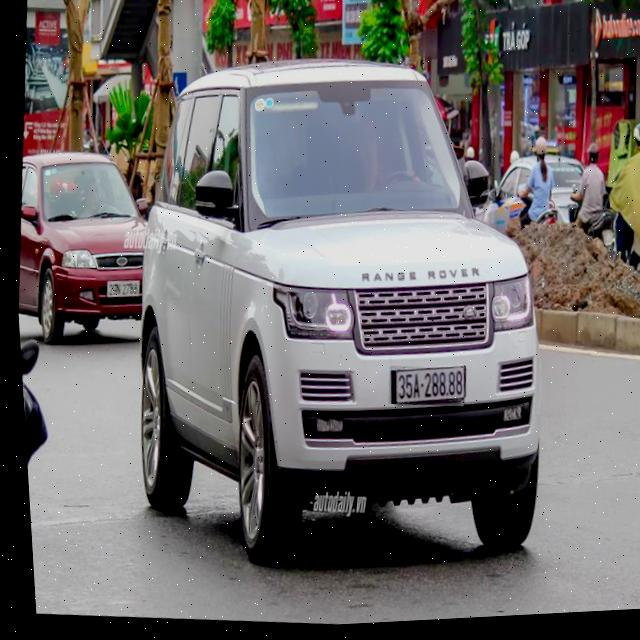car: (113, 24, 578, 575), (9, 140, 167, 355)
plate: (386, 357, 473, 412), (101, 272, 144, 302)
